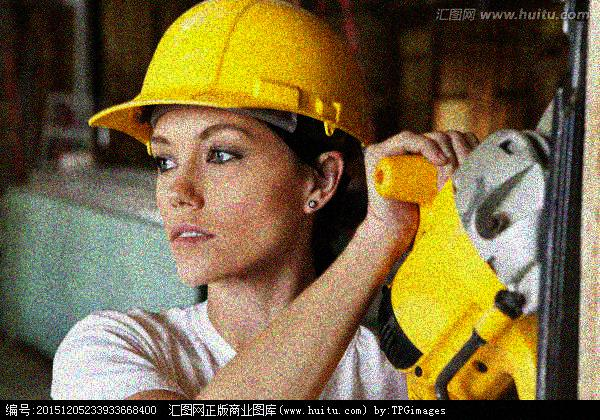helmet: (85, 1, 373, 290)
